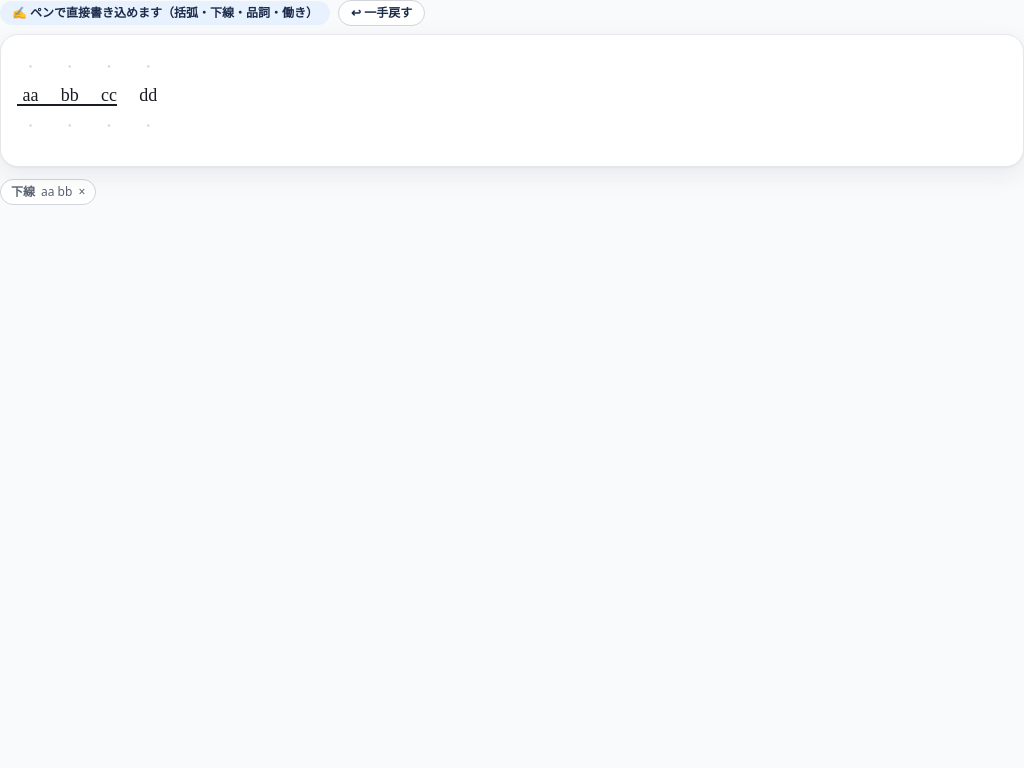
Scenario: PenSyntaxAnnotator 下線のタッチ修正（2026-09-02） › 波線に変更したあと、もう一度タッチすると下線に戻せる
Press the mouse on the drawing at (512, 100), box [1,35,1023,166]
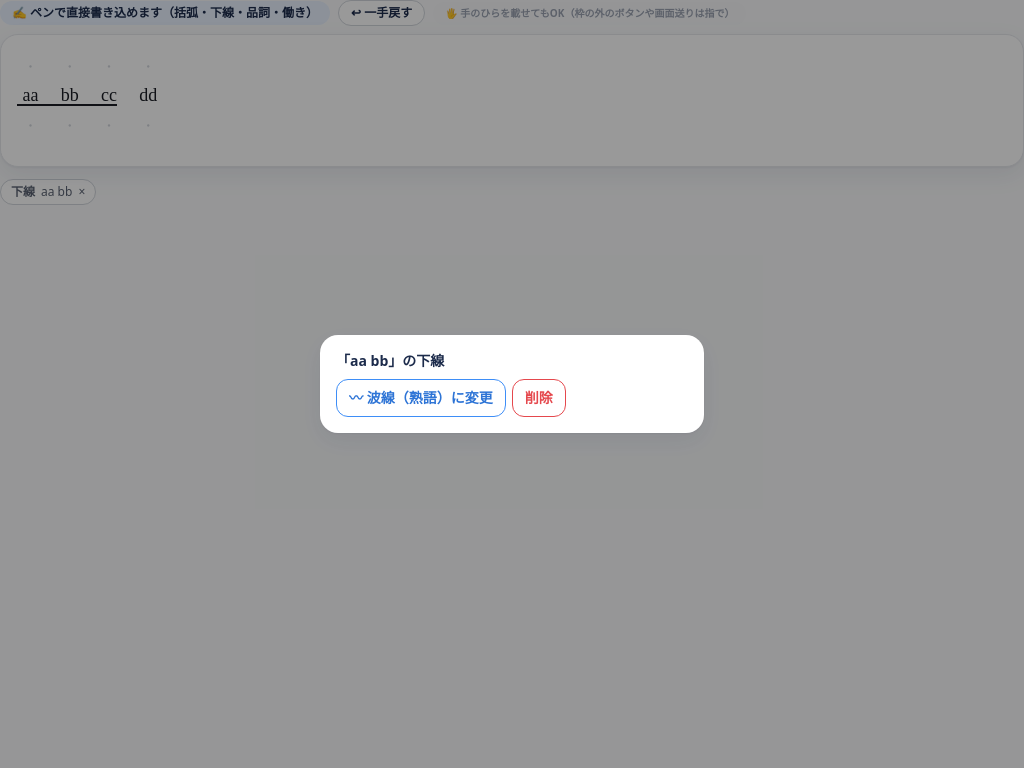
Click the button "〰 波線（熟語）に変更".
click(421, 398)  # box [336,379,506,417]
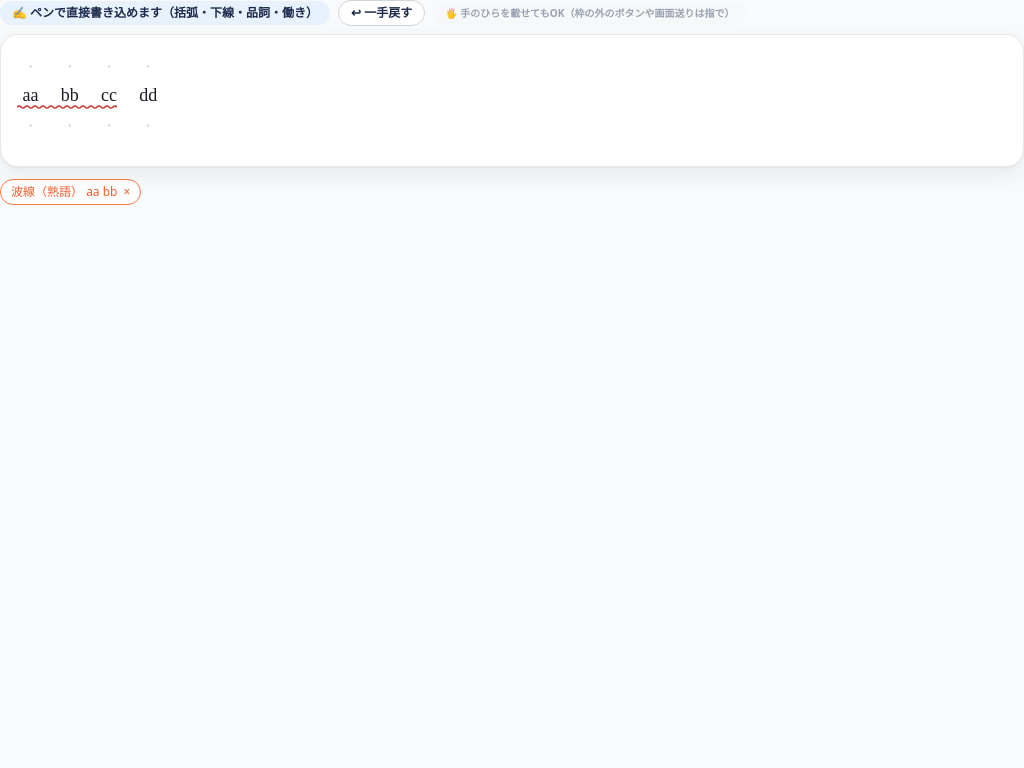
Press the mouse on the drawing at (512, 100), box [1,35,1023,166]
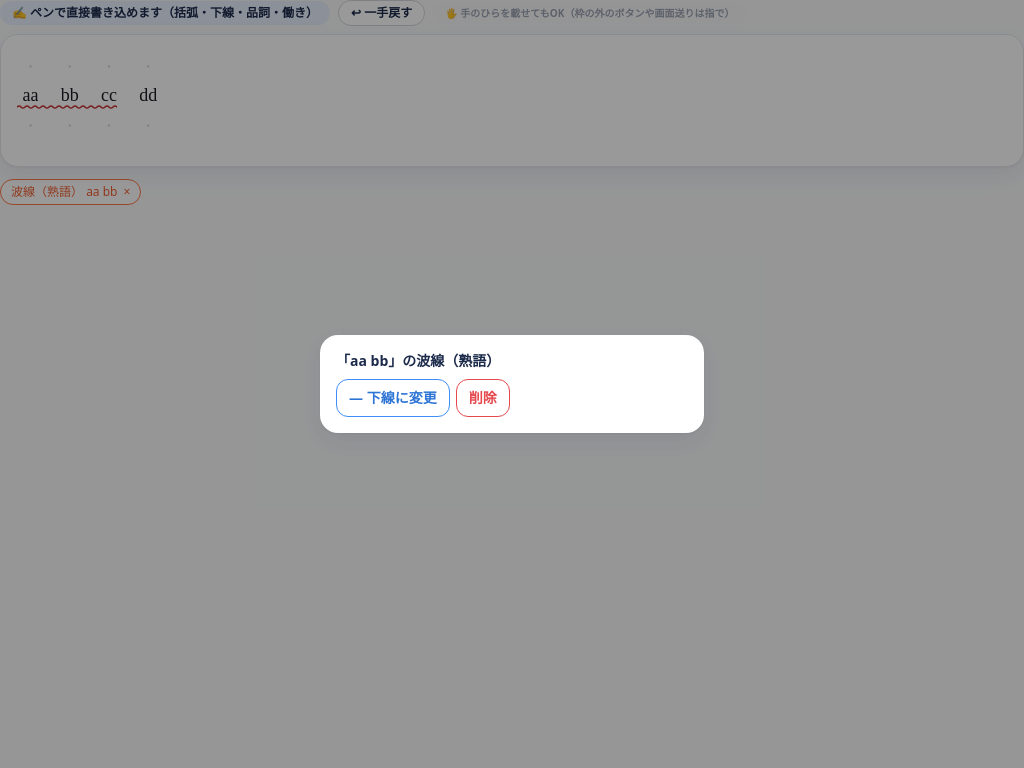
Now the text "「aa bb」の波線（熟語）" is shown, box [336,351,500,370]
Click the button "― 下線に変更".
click(393, 398)  # box [336,379,450,417]
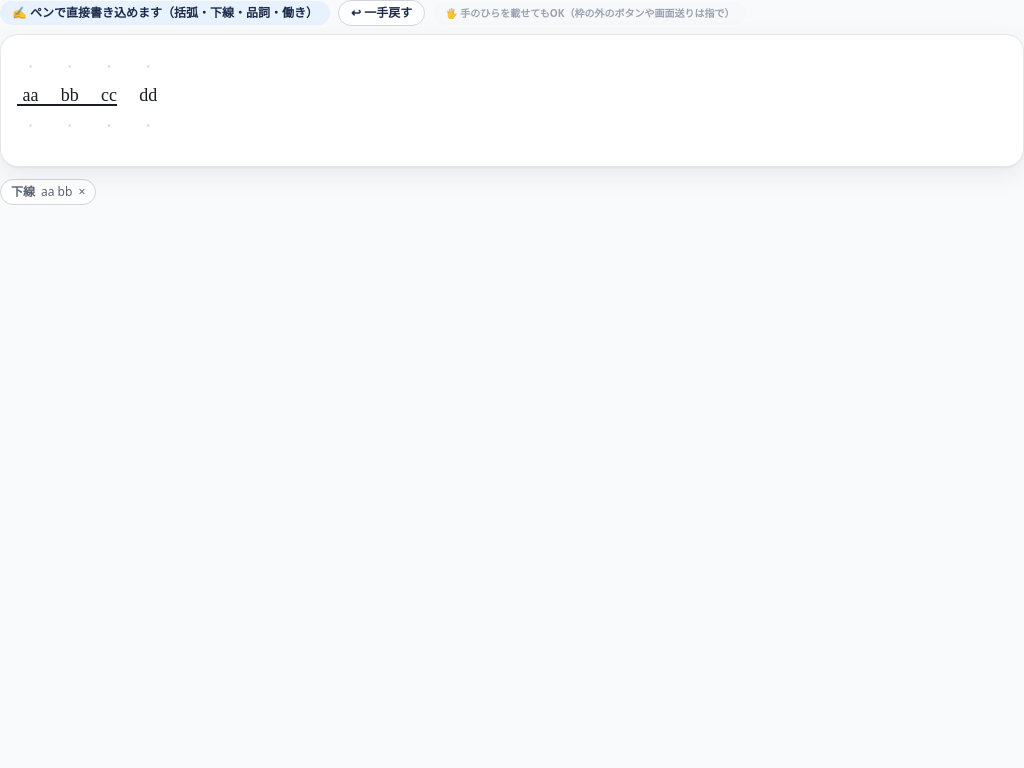
Now the text "波線（熟語） aa bb" is gone
